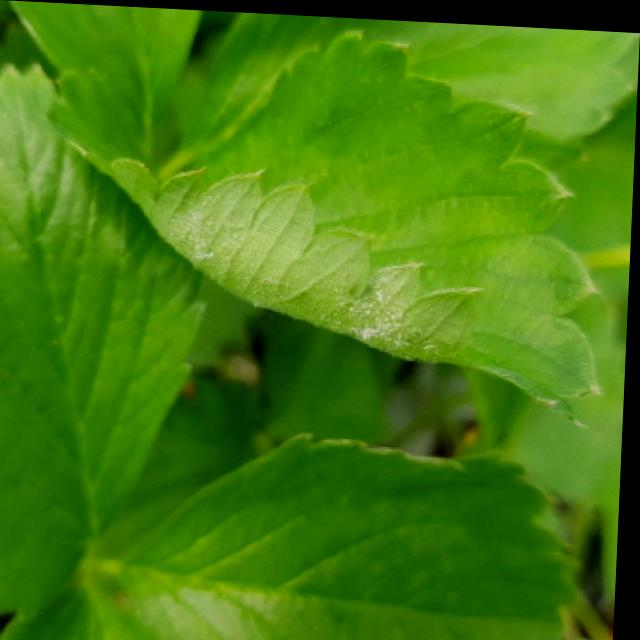Powdery Mildew Leaf: (47, 28, 610, 426)
